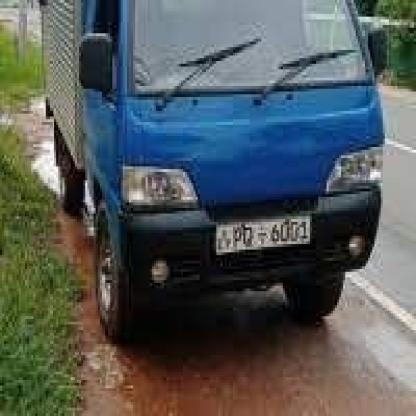Lorry front: (33, 2, 385, 342)
number plate: (213, 215, 313, 257)
